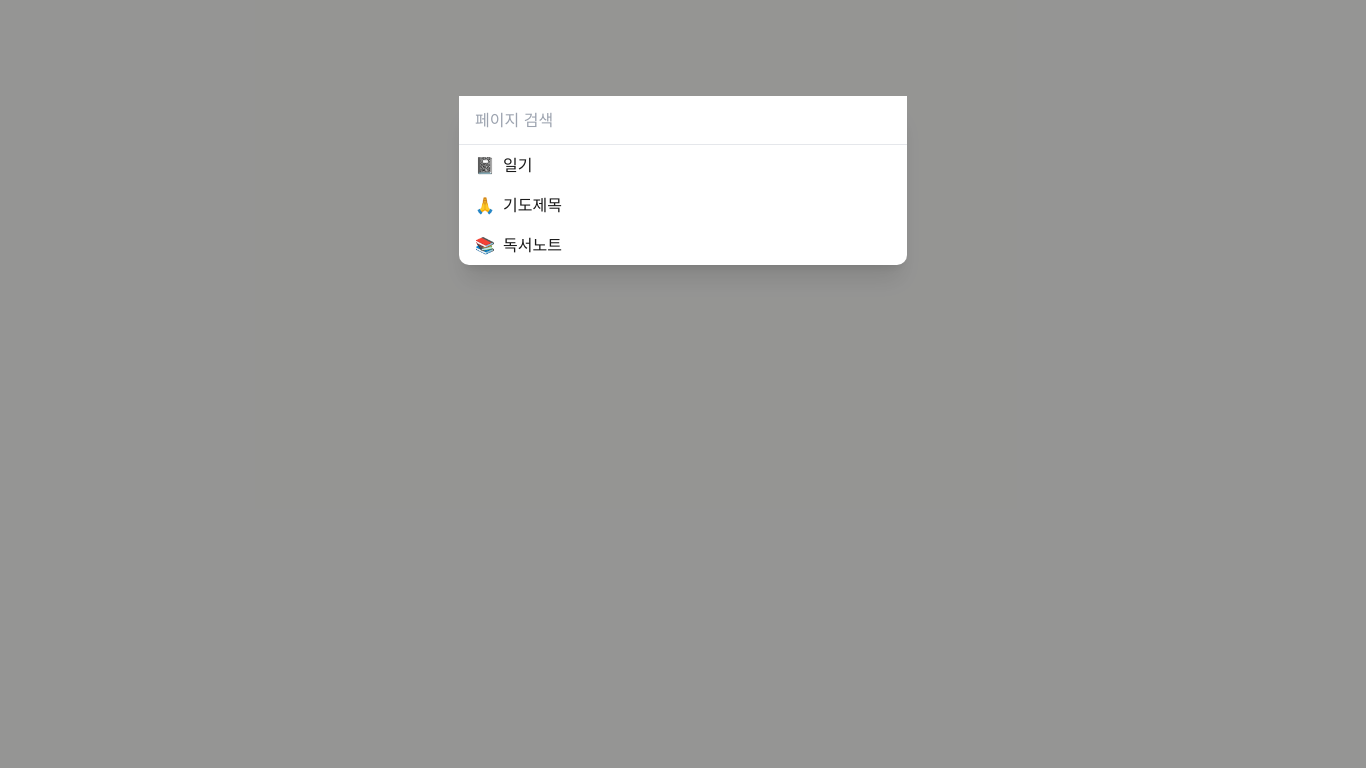
Test case: PageLinkPickerModal › 검색어 입력 시 제목으로 필터링 (대소문자/공백 무관)
Type "일기" into the field at (683, 120), box [459,96,907,145]
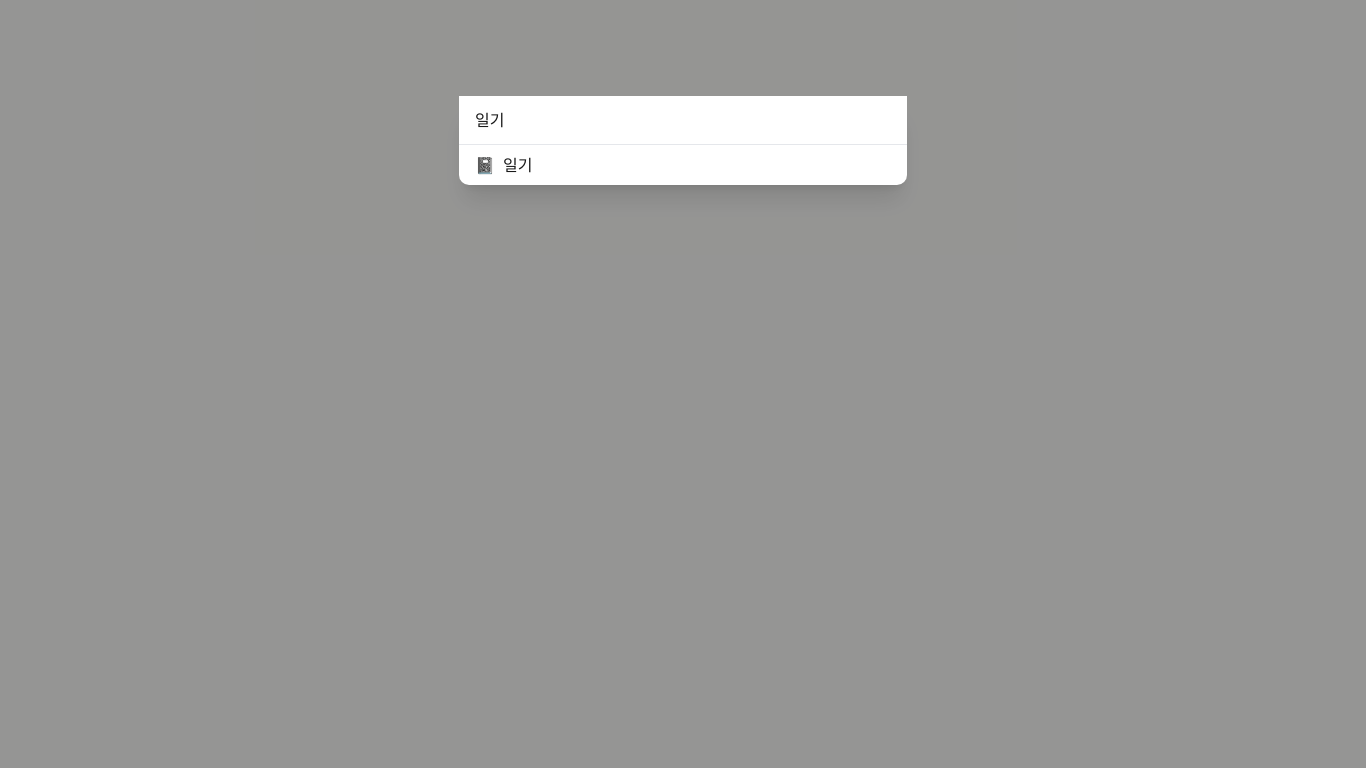
Check: the text "일기" is shown, box [503,153,532,177]
Check: the button "기도제목" is gone
